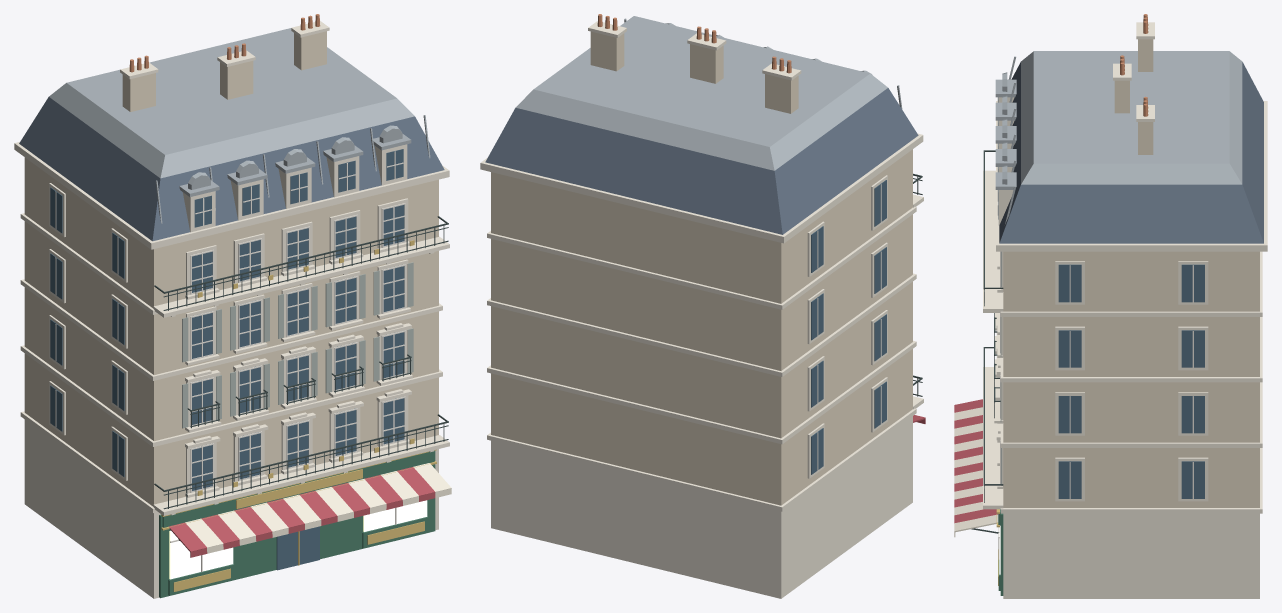
The model's file is Haussmann_Boulangerie.fbx.
3 views of the same model, side by side, from view 1: azimuth 30°, elevation 25°; view 2: azimuth 150°, elevation 25°; view 3: azimuth 270°, elevation 25° (orthographic). The views are drawn at different scales.
Visible parts, largest first — view 1: Haussmann_Boulangerie; view 2: Haussmann_Boulangerie; view 3: Haussmann_Boulangerie.
Part boxes in pixels (box(x1,y1,x2,y2)): Haussmann_Boulangerie: box(14, 14, 451, 598); Haussmann_Boulangerie: box(480, 14, 925, 598); Haussmann_Boulangerie: box(954, 14, 1267, 598).
Bounding box in the file's own units: 14.65 × 22.25 × 13.43.
